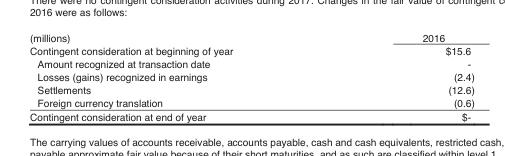table: (29, 29, 473, 125)
table column: (29, 29, 326, 125), (326, 29, 473, 125)
table row: (29, 29, 473, 44), (29, 110, 473, 125), (29, 96, 473, 110), (29, 44, 473, 57), (29, 57, 473, 70), (29, 70, 473, 83), (29, 83, 473, 96)
